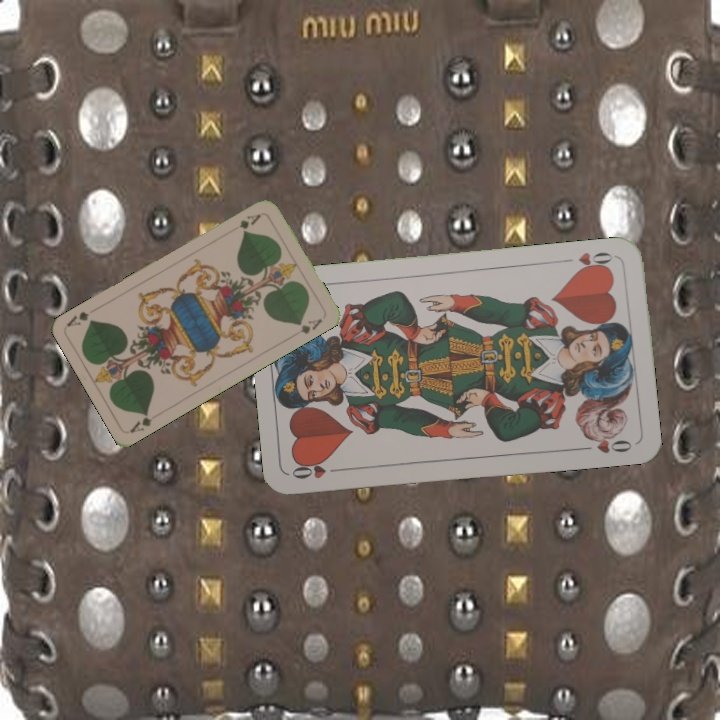GA: (227, 210, 264, 234), (126, 408, 154, 436)
HO: (287, 458, 347, 482), (571, 248, 618, 275)
